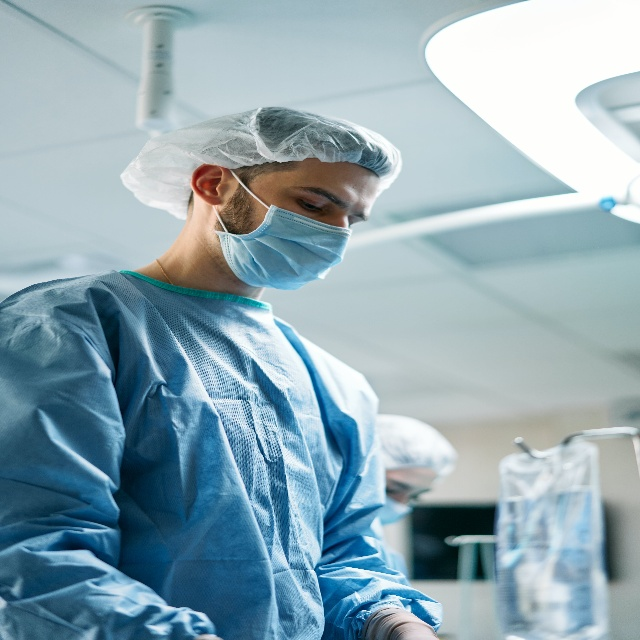Guantes: (361, 605, 440, 640)
Mascara: (212, 166, 350, 290), (379, 494, 413, 526)
